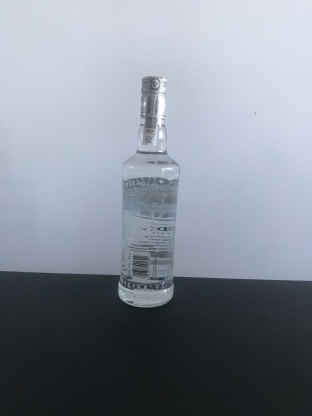nakretka: (138, 72, 168, 121)
